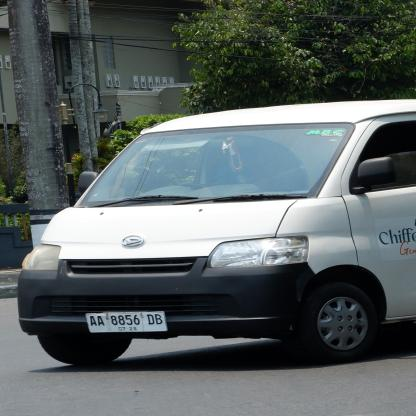Plat-Nomor: (80, 309, 169, 335)
